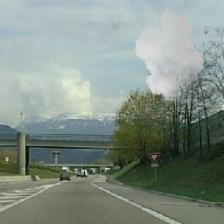fire: (132, 6, 207, 103)
